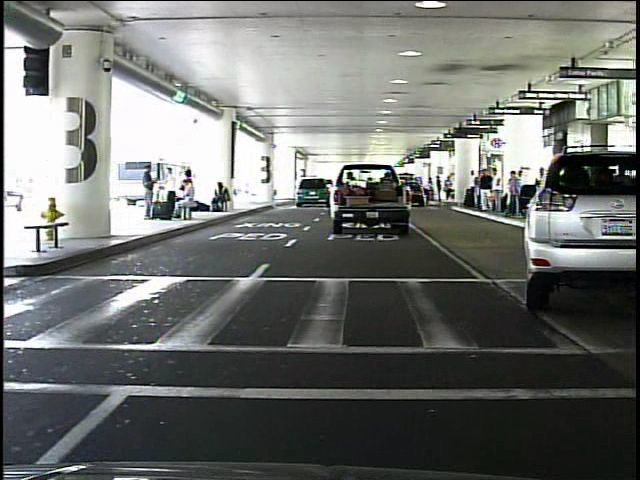person: (139, 162, 160, 223), (478, 168, 496, 216), (491, 166, 504, 216), (434, 173, 444, 205)
